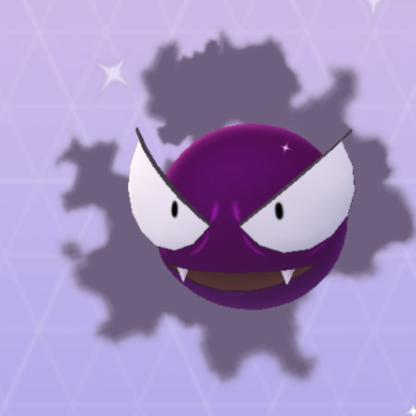Gastly: (100, 38, 416, 381)
